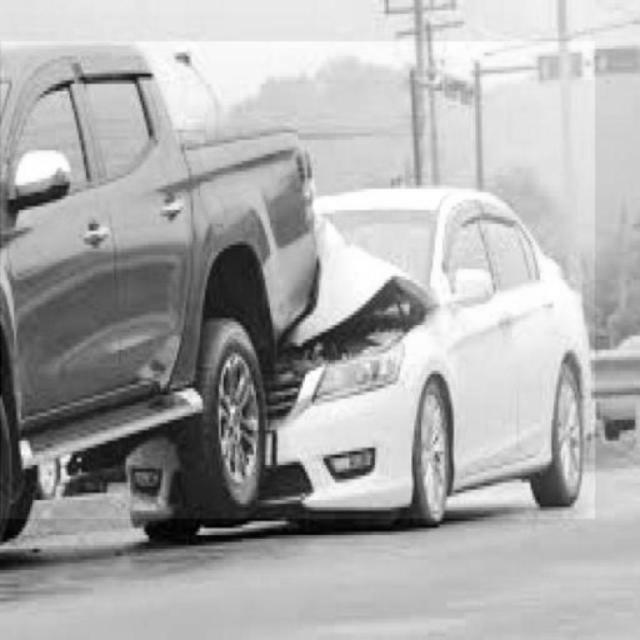accident: (2, 42, 595, 519)
